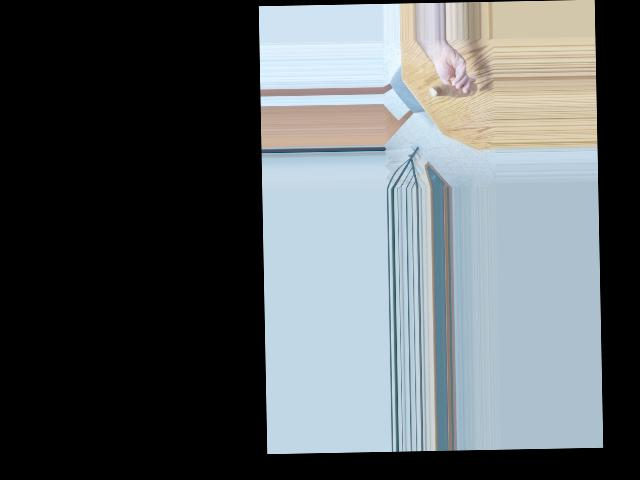sweet_potato: (428, 78, 478, 98)
